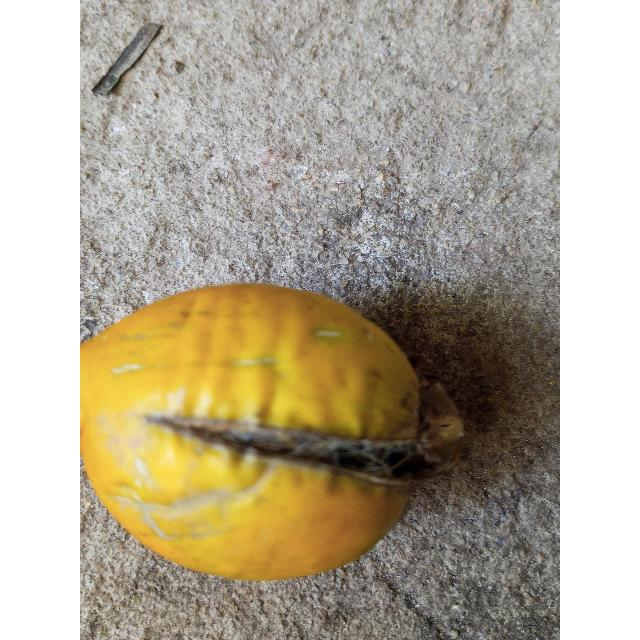damaged: (80, 284, 463, 584)
